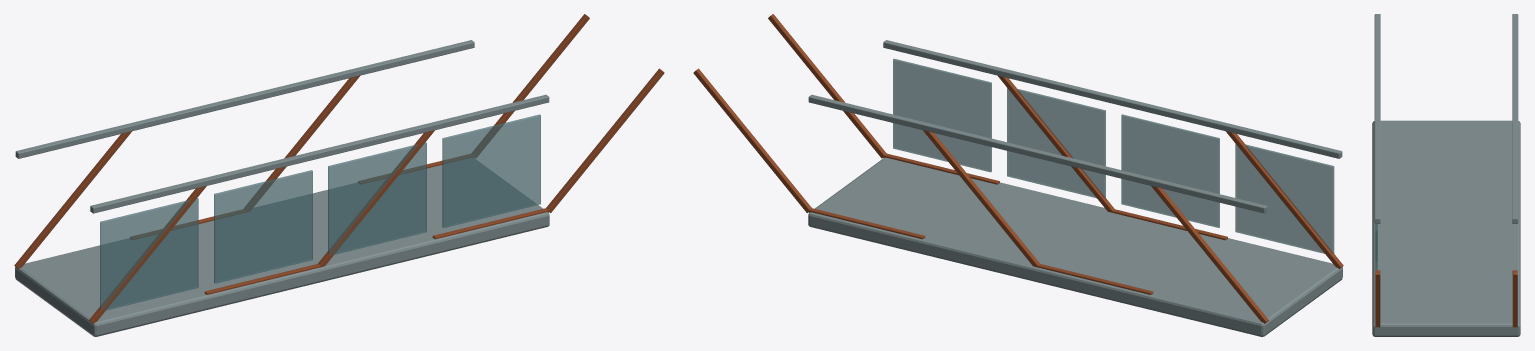
The model's file is SM_FC01_Infrastructure_Skybridge_A.fbx.
The picture shows the model from 3 angles, left to right: view 1: azimuth 30°, elevation 25°; view 2: azimuth 150°, elevation 25°; view 3: azimuth 270°, elevation 25°; orthographic projection. The views are drawn at different scales.
Visible parts, largest first — view 1: SM_FC01_Infrastructure_Skybridge_A_Floor, SM_FC01_Infrastructure_Skybridge_A_Glass_2.7, SM_FC01_Infrastructure_Skybridge_A_Glass_-0.9, SM_FC01_Infrastructure_Skybridge_A_Glass_-2.7, SM_FC01_Infrastructure_Skybridge_A_Glass_0.9, SM_FC01_Infrastructure_Skybridge_A_Top_-1.02, SM_FC01_Infrastructure_Skybridge_A_Top_1.02, SM_FC01_Infrastructure_Skybridge_A_Diag_-1.02_4, SM_FC01_Infrastructure_Skybridge_A_Diag_1.02_0, SM_FC01_Infrastructure_Skybridge_A_Diag_-1.02_0, SM_FC01_Infrastructure_Skybridge_A_Diag_-1.02_2, SM_FC01_Infrastructure_Skybridge_A_Diag_1.02_4 (+3 smaller); view 2: SM_FC01_Infrastructure_Skybridge_A_Floor, SM_FC01_Infrastructure_Skybridge_A_Glass_-2.7, SM_FC01_Infrastructure_Skybridge_A_Glass_2.7, SM_FC01_Infrastructure_Skybridge_A_Glass_-0.9, SM_FC01_Infrastructure_Skybridge_A_Glass_0.9, SM_FC01_Infrastructure_Skybridge_A_Top_-1.02, SM_FC01_Infrastructure_Skybridge_A_Top_1.02, SM_FC01_Infrastructure_Skybridge_A_Diag_1.02_4, SM_FC01_Infrastructure_Skybridge_A_Diag_1.02_0, SM_FC01_Infrastructure_Skybridge_A_Diag_1.02_2, SM_FC01_Infrastructure_Skybridge_A_Diag_-1.02_0, SM_FC01_Infrastructure_Skybridge_A_Diag_-1.02_4 (+5 smaller); view 3: SM_FC01_Infrastructure_Skybridge_A_Floor, SM_FC01_Infrastructure_Skybridge_A_Top_-1.02, SM_FC01_Infrastructure_Skybridge_A_Top_1.02, SM_FC01_Infrastructure_Skybridge_A_Diag_-1.02_4, SM_FC01_Infrastructure_Skybridge_A_Diag_1.02_4, SM_FC01_Infrastructure_Skybridge_A_Glass_2.7.
Part boxes in pixels (x1,y1,x2,y2): SM_FC01_Infrastructure_Skybridge_A_Floor: (15,158,549,336); SM_FC01_Infrastructure_Skybridge_A_Glass_2.7: (442,114,540,227); SM_FC01_Infrastructure_Skybridge_A_Glass_-0.9: (214,170,312,283); SM_FC01_Infrastructure_Skybridge_A_Glass_-2.7: (100,198,198,310); SM_FC01_Infrastructure_Skybridge_A_Glass_0.9: (328,142,426,255); SM_FC01_Infrastructure_Skybridge_A_Top_-1.02: (90,94,549,213); SM_FC01_Infrastructure_Skybridge_A_Top_1.02: (15,40,474,158); SM_FC01_Infrastructure_Skybridge_A_Diag_-1.02_4: (546,68,664,212); SM_FC01_Infrastructure_Skybridge_A_Diag_1.02_0: (14,131,131,268); SM_FC01_Infrastructure_Skybridge_A_Diag_-1.02_0: (89,186,206,323); SM_FC01_Infrastructure_Skybridge_A_Diag_-1.02_2: (318,130,434,267); SM_FC01_Infrastructure_Skybridge_A_Diag_1.02_4: (471,14,589,157); SM_FC01_Infrastructure_Skybridge_A_Floor: (808,157,1342,336); SM_FC01_Infrastructure_Skybridge_A_Glass_-2.7: (1235,143,1334,254); SM_FC01_Infrastructure_Skybridge_A_Glass_2.7: (893,58,991,172); SM_FC01_Infrastructure_Skybridge_A_Glass_-0.9: (1121,114,1219,227); SM_FC01_Infrastructure_Skybridge_A_Glass_0.9: (1007,88,1105,198); SM_FC01_Infrastructure_Skybridge_A_Top_-1.02: (883,40,1342,158); SM_FC01_Infrastructure_Skybridge_A_Top_1.02: (808,94,1267,213); SM_FC01_Infrastructure_Skybridge_A_Diag_1.02_4: (693,68,811,212); SM_FC01_Infrastructure_Skybridge_A_Diag_1.02_0: (1151,186,1268,323); SM_FC01_Infrastructure_Skybridge_A_Diag_1.02_2: (923,130,1039,267); SM_FC01_Infrastructure_Skybridge_A_Diag_-1.02_0: (1226,131,1343,268); SM_FC01_Infrastructure_Skybridge_A_Diag_-1.02_4: (768,14,886,158); SM_FC01_Infrastructure_Skybridge_A_Floor: (1372,120,1520,336); SM_FC01_Infrastructure_Skybridge_A_Top_-1.02: (1374,14,1380,223); SM_FC01_Infrastructure_Skybridge_A_Top_1.02: (1512,14,1518,223); SM_FC01_Infrastructure_Skybridge_A_Diag_-1.02_4: (1375,270,1380,327); SM_FC01_Infrastructure_Skybridge_A_Diag_1.02_4: (1512,270,1517,327); SM_FC01_Infrastructure_Skybridge_A_Glass_2.7: (1375,224,1377,270).
Bounding box in the file's own units: 9.04 × 1.96 × 2.2.
